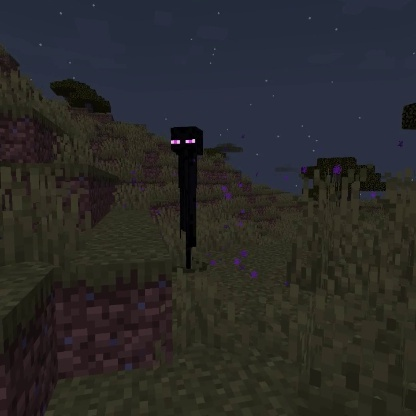enderman: (167, 125, 207, 270)
